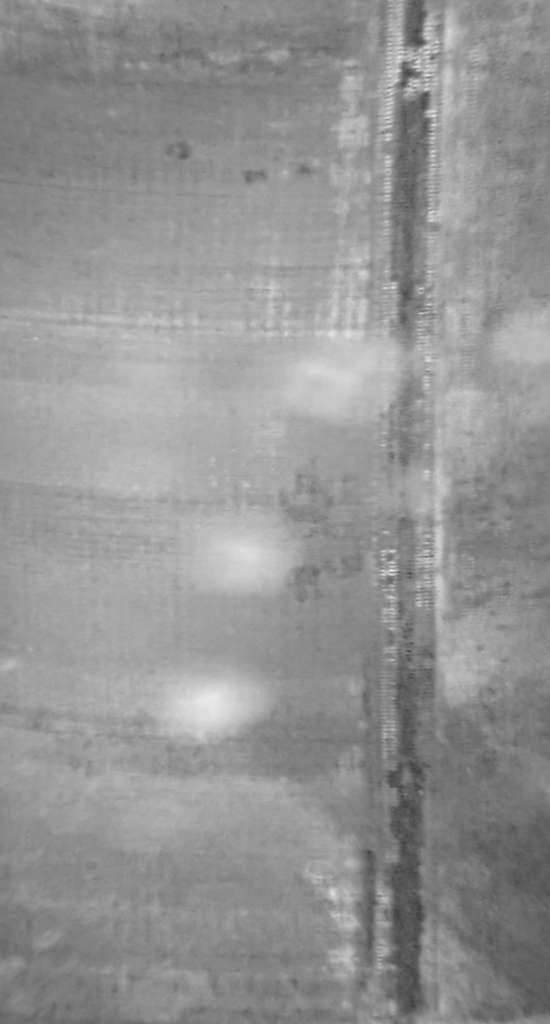splice: (364, 1, 462, 1024)
